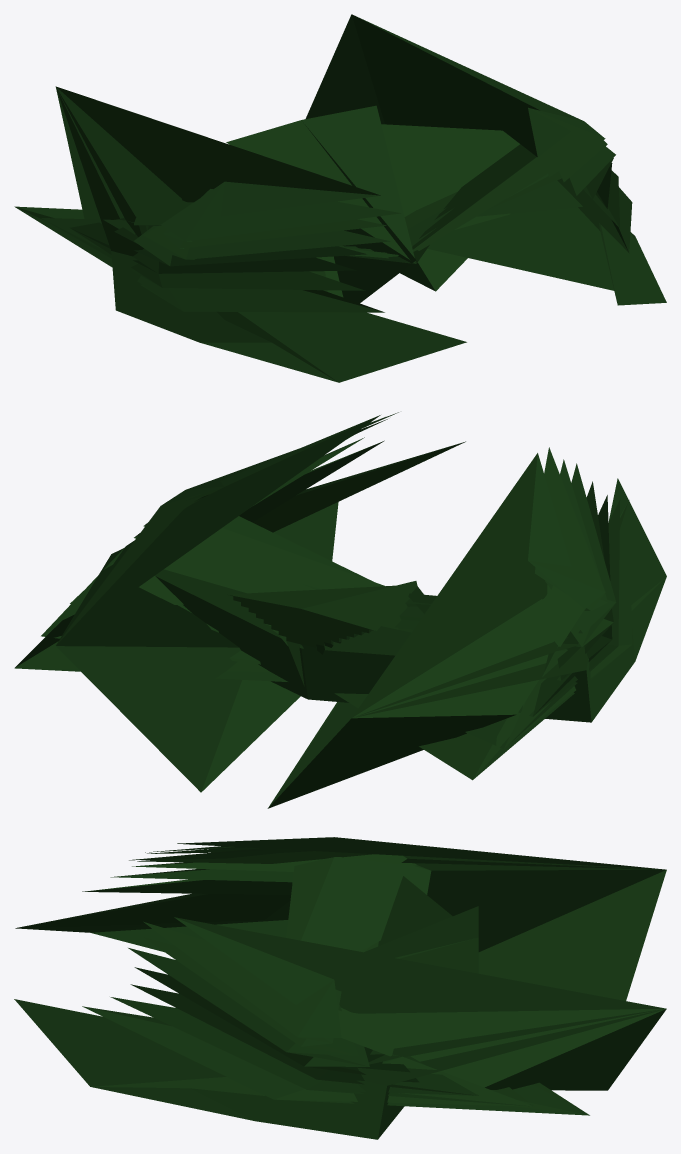
The model's file is enemy2.glb.
3 renders of one model, top to bottom at view 1: azimuth 30°, elevation 25°; view 2: azimuth 150°, elevation 25°; view 3: azimuth 270°, elevation 25°, orthographic. The views are drawn at different scales.
Parts seen in each view (by area): view 1: Pyramid.002; view 2: Pyramid.002; view 3: Pyramid.002.
Boxes of the visible parts, x1,y1,x2,y2 form: Pyramid.002: (14,14,666,382); Pyramid.002: (14,412,666,808); Pyramid.002: (14,837,666,1139).
Size of what is drawn, in the model's own units: 24.48 by 9.94 by 30.21.
